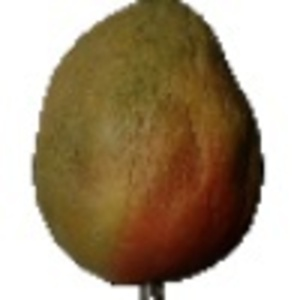mamão: (28, 2, 265, 287)
